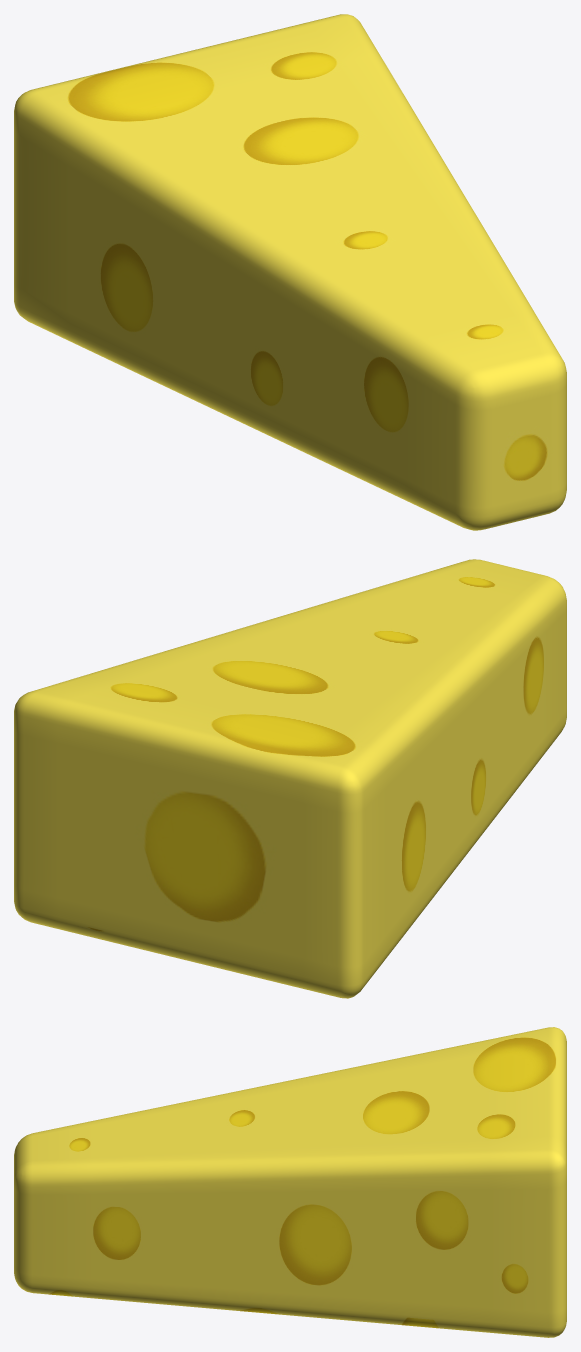
File: Cheez2 (1).fbx
The picture shows the model from 3 angles, top to bottom: view 1: azimuth 30°, elevation 25°; view 2: azimuth 150°, elevation 25°; view 3: azimuth 270°, elevation 25°; orthographic projection. The views are drawn at different scales.
Visible parts, largest first — view 1: Cube; view 2: Cube; view 3: Cube.
Boxes of the visible parts, bbox=[...] form: Cube: bbox=[14, 14, 566, 530]; Cube: bbox=[14, 559, 566, 998]; Cube: bbox=[14, 1027, 566, 1337].
Bounding box in the file's own units: 117 × 75.26 × 200.
1 material, 1 textured.
